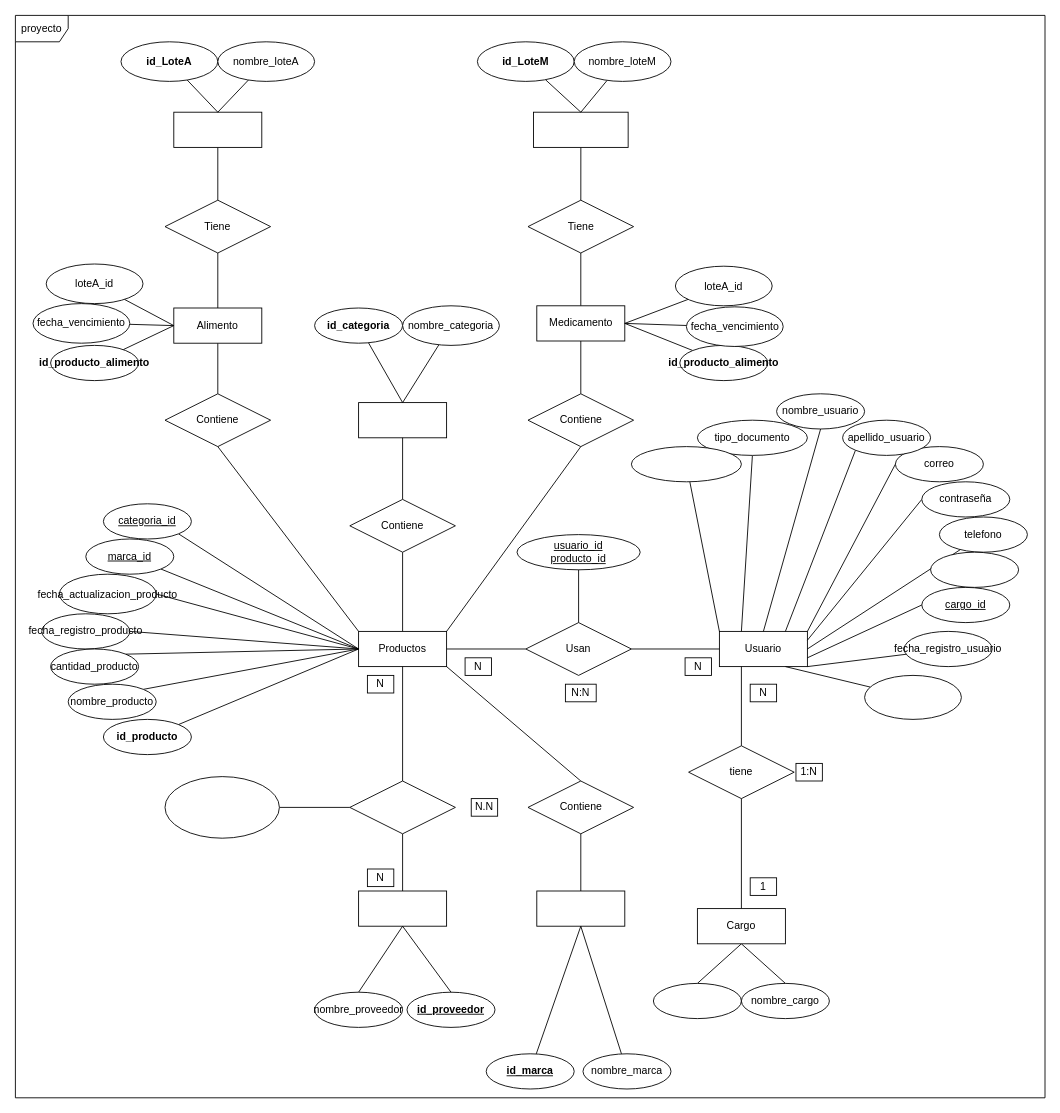
Some shapes in this 1060 by 1113 pixel diagram are drawn without their labels. Each missing label, with the centre of its shape:
CATEGORIA: [402,420]
dirección: [974,569]
fecha_actualizacion_usuario: [912,697]
id_cargo: [697,1001]
id_proveedor producto_id fecha_proveedor: [221,807]
id_usuario: [686,464]
Lote_Alimento: [217,129]
Lote_Medicamento: [580,129]
Marca: [580,908]
Poseen: [402,807]
Proveedores: [402,908]
